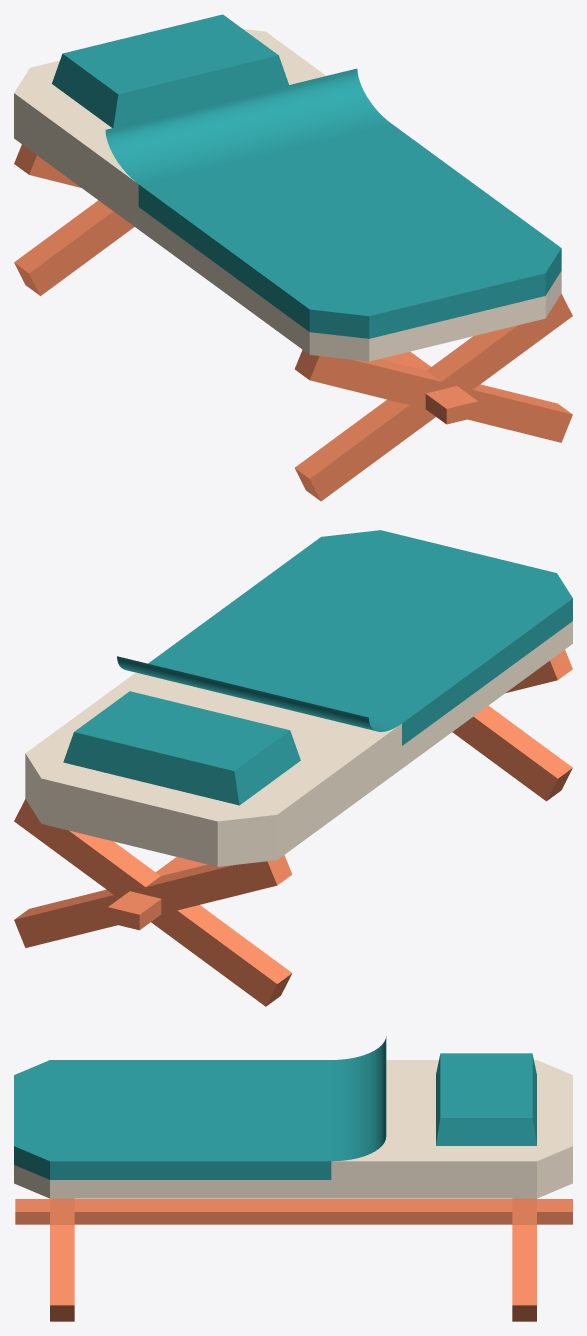
Rendered from bed.obj.
The picture shows the model from 3 angles, top to bottom: view 1: azimuth 30°, elevation 25°; view 2: azimuth 150°, elevation 25°; view 3: azimuth 270°, elevation 25°; orthographic projection. The views are drawn at different scales.
Parts seen in each view (by area): view 1: bed; view 2: bed; view 3: bed.
Part boxes in pixels (box(x1,y1,x2,y2)): bed: box(14, 14, 572, 501); bed: box(14, 530, 572, 1006); bed: box(14, 1036, 572, 1321).
Size of the model in its own units: 3.35 by 2.74 by 7.47.
